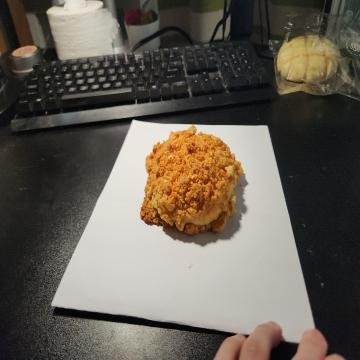soboru_bread: (138, 126, 247, 236)
